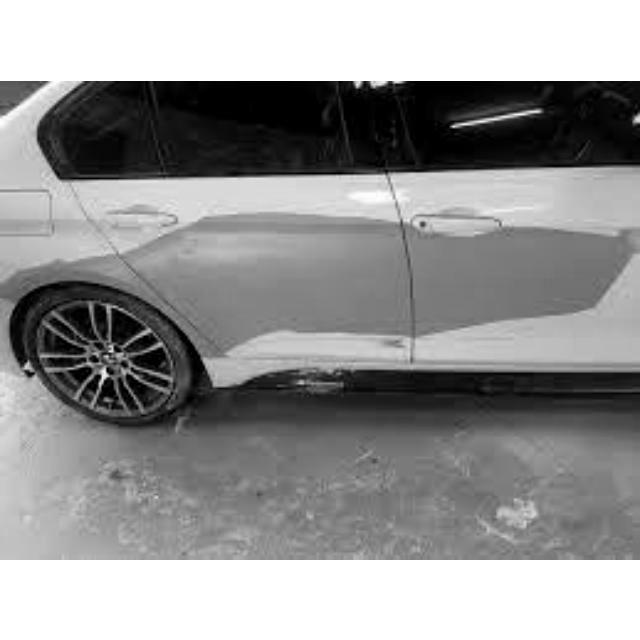Runningboard-Damage: (218, 362, 549, 399)
doorouter-dent: (77, 172, 403, 357), (363, 169, 637, 369)
